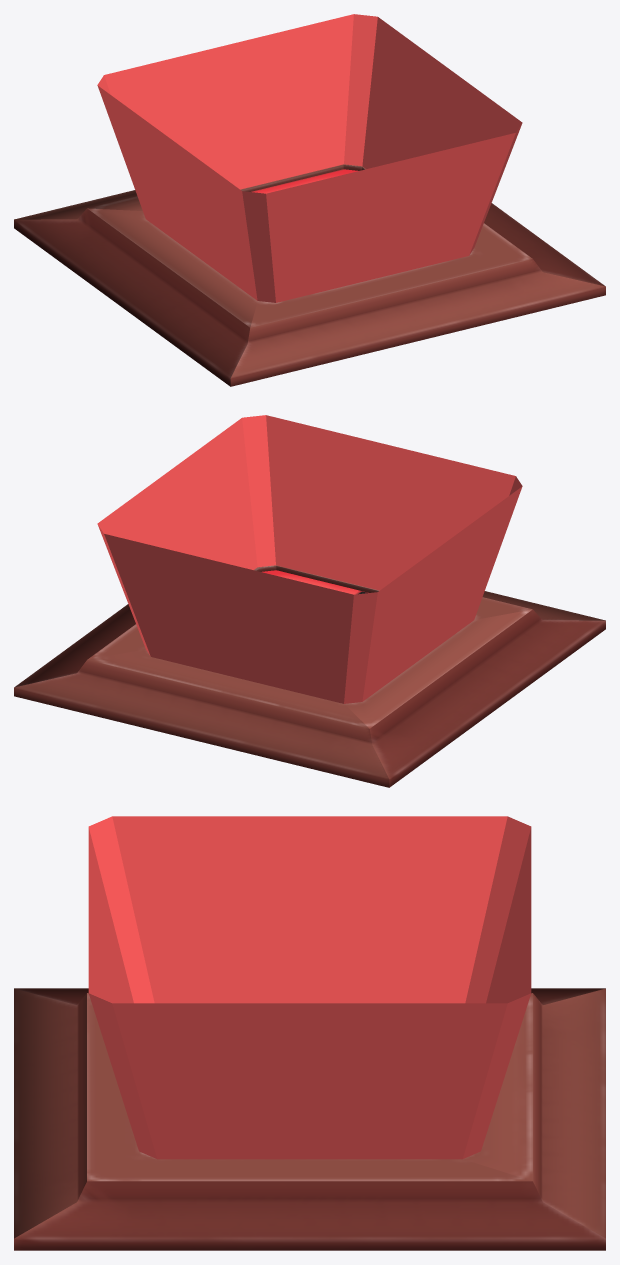
The model's file is a_SWApan.glb.
3 views of the same model, one above another, from view 1: azimuth 30°, elevation 25°; view 2: azimuth 150°, elevation 25°; view 3: azimuth 270°, elevation 25° (orthographic). The views are drawn at different scales.
Parts seen in each view (by area): view 1: a_SWApan; view 2: a_SWApan; view 3: a_SWApan.
Part boxes in pixels (x1,y1,x2,y2): a_SWApan: [14, 14, 605, 386]; a_SWApan: [14, 415, 605, 787]; a_SWApan: [14, 816, 605, 1250].
Size of the model in its own units: 1 by 0.402 by 1.
3 materials, 3 textured.
